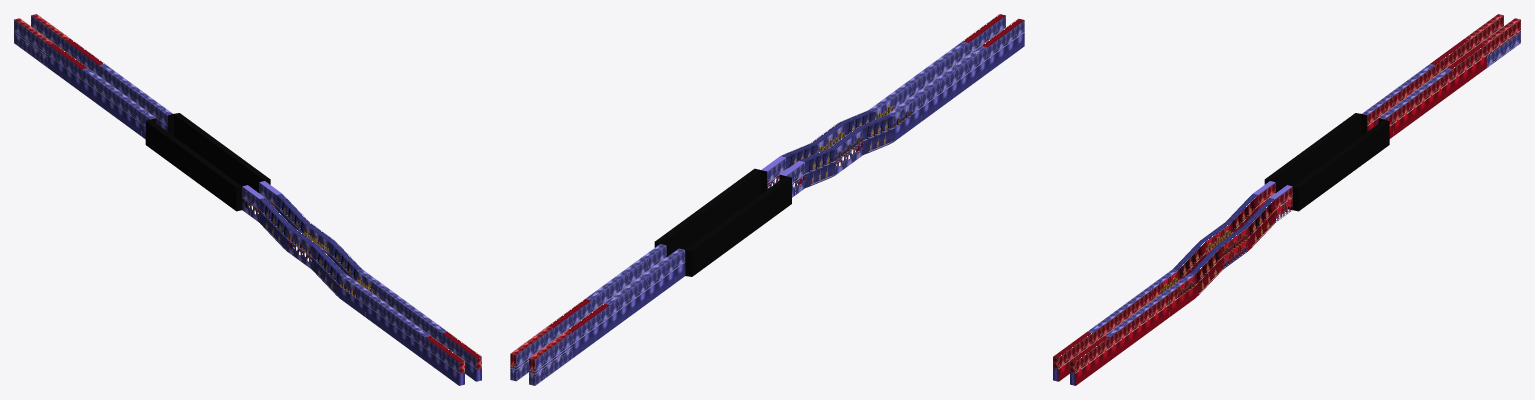
The model's file is TR_Map2_Wall.fbx.
3 views of the same model, side by side, from view 1: azimuth 30°, elevation 25°; view 2: azimuth 150°, elevation 25°; view 3: azimuth 330°, elevation 25° (orthographic). The views are drawn at different scales.
Parts seen in each view (by area): view 1: Wall_02, Wall_02.002; view 2: Wall_02, Wall_02.002; view 3: Wall_02.002, Wall_02.
Boxes of the visible parts, bbox=[...] form: Wall_02: bbox=[14, 18, 464, 385]; Wall_02.002: bbox=[31, 14, 481, 381]; Wall_02: bbox=[529, 18, 1024, 385]; Wall_02.002: bbox=[510, 14, 1005, 381]; Wall_02.002: bbox=[1070, 18, 1520, 385]; Wall_02: bbox=[1053, 14, 1503, 381].
Bounding box in the file's own units: 2405 × 2745 × 54392.
